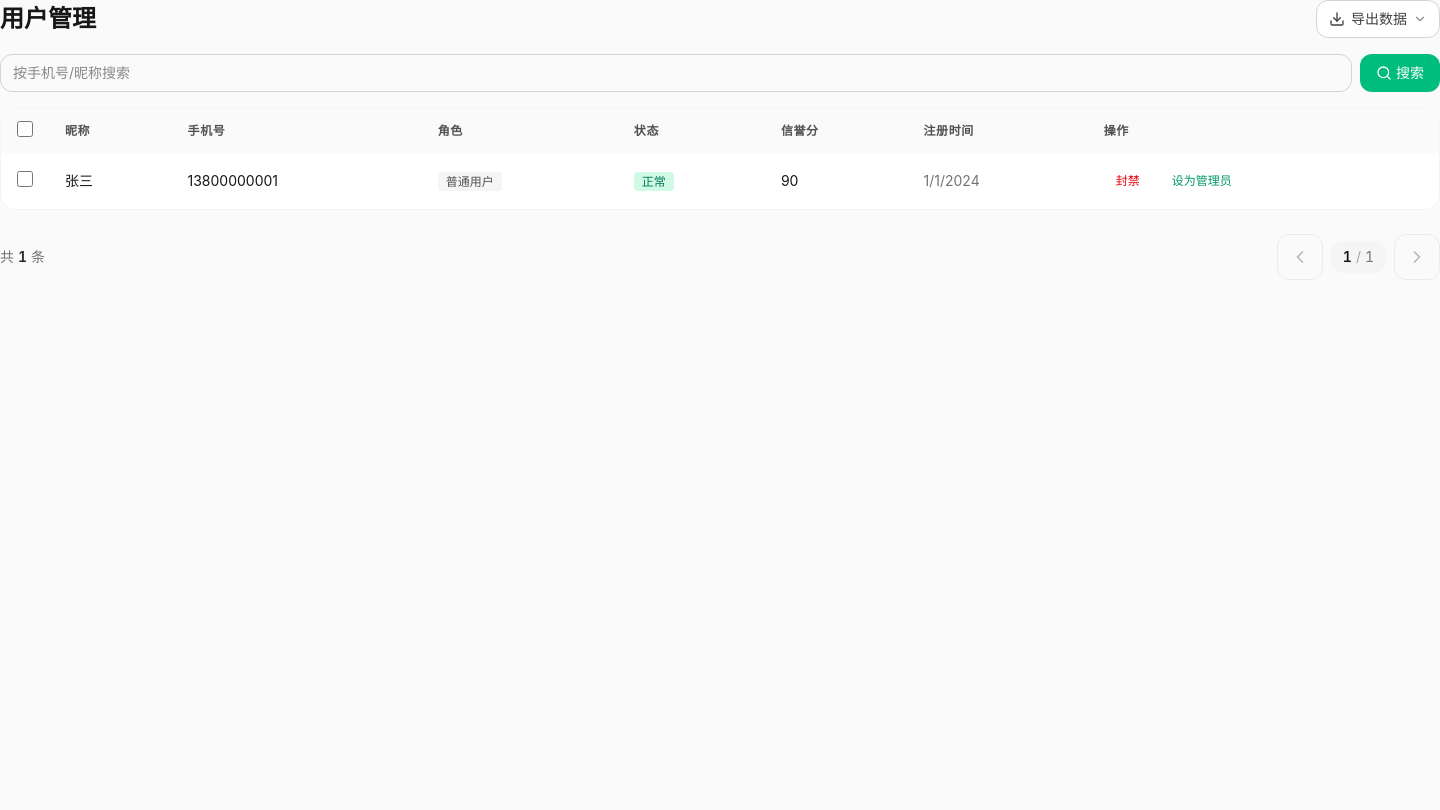
Test: UserManagement 封禁/解封弹窗 › 点击"封禁"打开弹窗，显示用户昵称
The image size is (1440, 810).
Check: the text "张三" is shown, box [49,153,172,209]
Check: the heading "确认封禁" is not shown
# 桌面+移动双布局有多个"封禁"按钮，取第一个点击
Click the button "封禁". click: (1128, 181)
box: [1104,165,1152,197]
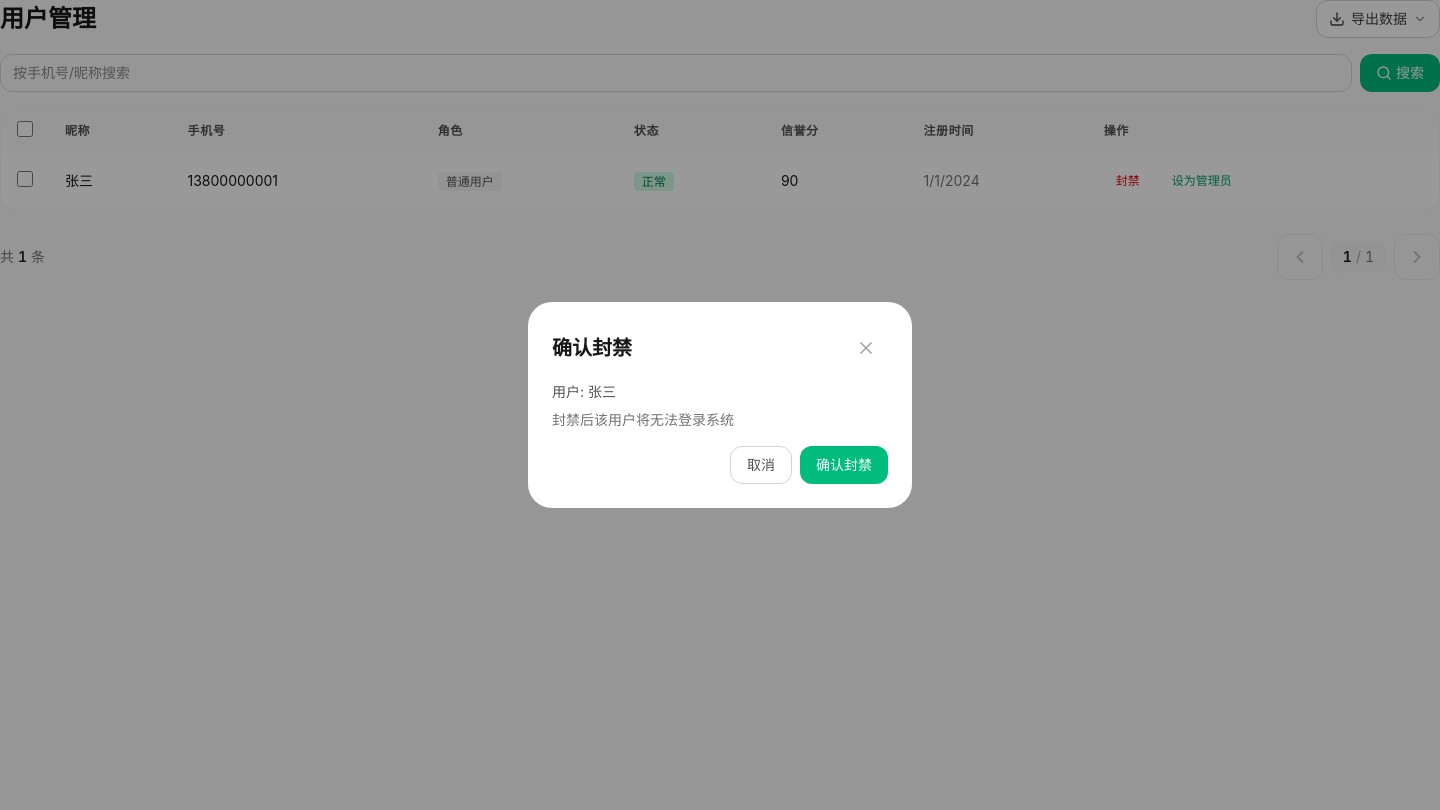
Check: the text "张三" is shown, box [49,153,172,209]
Check: the heading "确认封禁" is shown, box [552,336,632,360]
